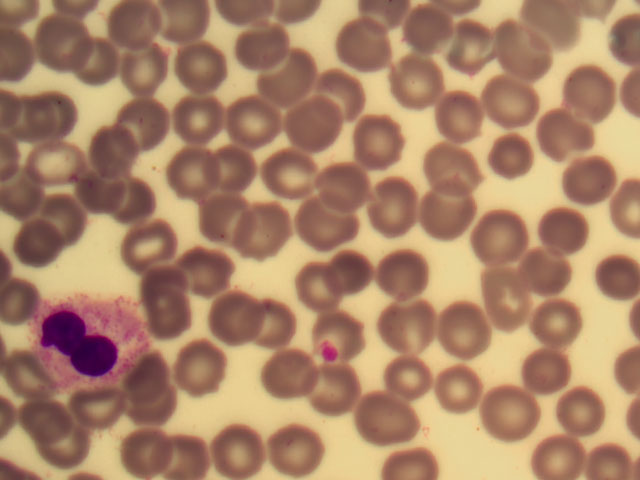RBC: (33, 9, 92, 72), (58, 27, 117, 90), (103, 1, 162, 64), (113, 35, 172, 98), (162, 34, 221, 97), (169, 86, 228, 149), (112, 89, 171, 152), (81, 119, 140, 182), (69, 156, 128, 219), (98, 177, 157, 240), (40, 184, 99, 247), (21, 217, 80, 280), (34, 134, 93, 197), (29, 89, 88, 152), (115, 213, 174, 276), (131, 260, 190, 323), (188, 243, 247, 306), (196, 282, 255, 345), (236, 290, 295, 353), (152, 339, 211, 402), (124, 368, 183, 431), (70, 389, 129, 452), (37, 405, 96, 468), (119, 417, 178, 480), (153, 417, 212, 480), (200, 417, 259, 480), (272, 417, 331, 480), (261, 341, 320, 404), (305, 363, 364, 426), (315, 305, 374, 368), (295, 258, 354, 321), (314, 244, 373, 307), (293, 196, 352, 259), (305, 163, 364, 226), (254, 142, 313, 205), (292, 93, 351, 156), (315, 53, 374, 116), (257, 40, 316, 103), (224, 19, 283, 82), (227, 86, 286, 149), (195, 148, 254, 211), (174, 147, 233, 210), (195, 192, 254, 255), (249, 201, 308, 264), (356, 173, 415, 236), (418, 181, 477, 244), (439, 149, 498, 212), (369, 120, 428, 183), (431, 98, 490, 161), (394, 65, 453, 128), (353, 27, 412, 90), (404, 3, 463, 66), (444, 9, 503, 72), (481, 12, 540, 75), (553, 49, 612, 112), (482, 66, 541, 129), (480, 119, 539, 182), (533, 109, 592, 172), (557, 151, 616, 214), (538, 193, 597, 256), (478, 200, 537, 263), (464, 247, 523, 310), (514, 253, 573, 316), (530, 296, 589, 359), (524, 338, 583, 401), (478, 387, 537, 450), (567, 386, 626, 449), (525, 414, 584, 477), (581, 244, 640, 307), (434, 301, 493, 364), (378, 293, 437, 356), (376, 246, 435, 309), (389, 335, 448, 398), (357, 385, 416, 448), (430, 357, 489, 420), (380, 444, 438, 480)
WBC: (30, 291, 144, 378)
